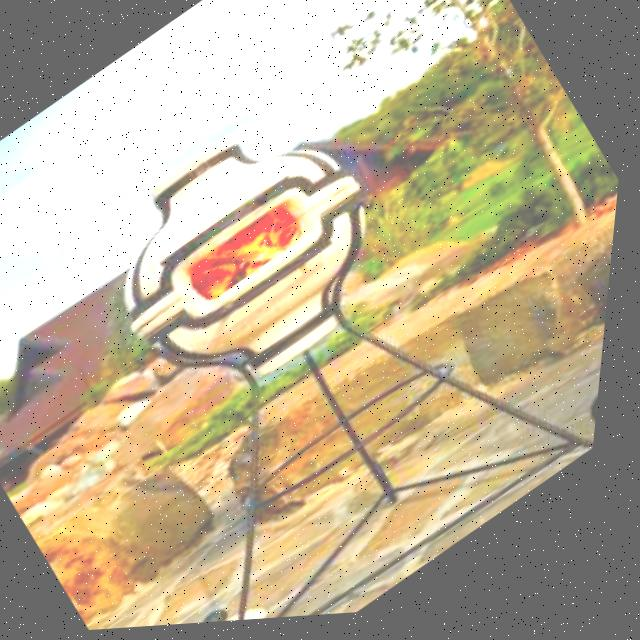Fire: (184, 197, 327, 320)
